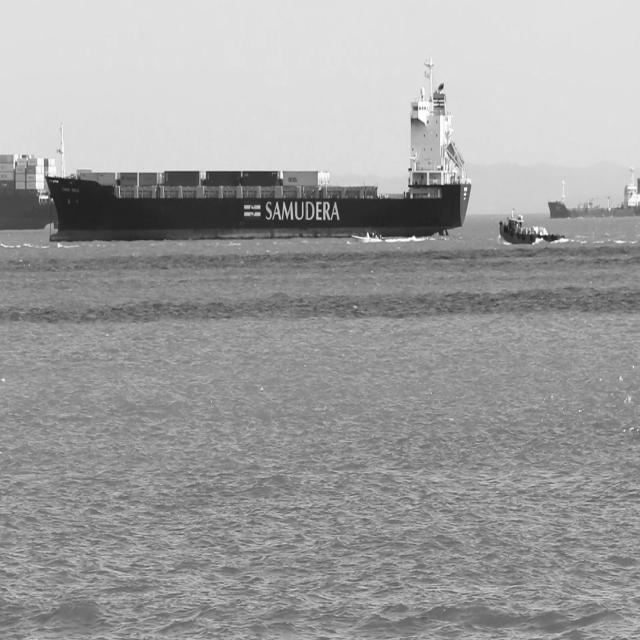ship: (45, 51, 473, 240), (546, 166, 640, 218), (0, 150, 59, 230), (498, 208, 566, 244), (352, 224, 385, 240)
